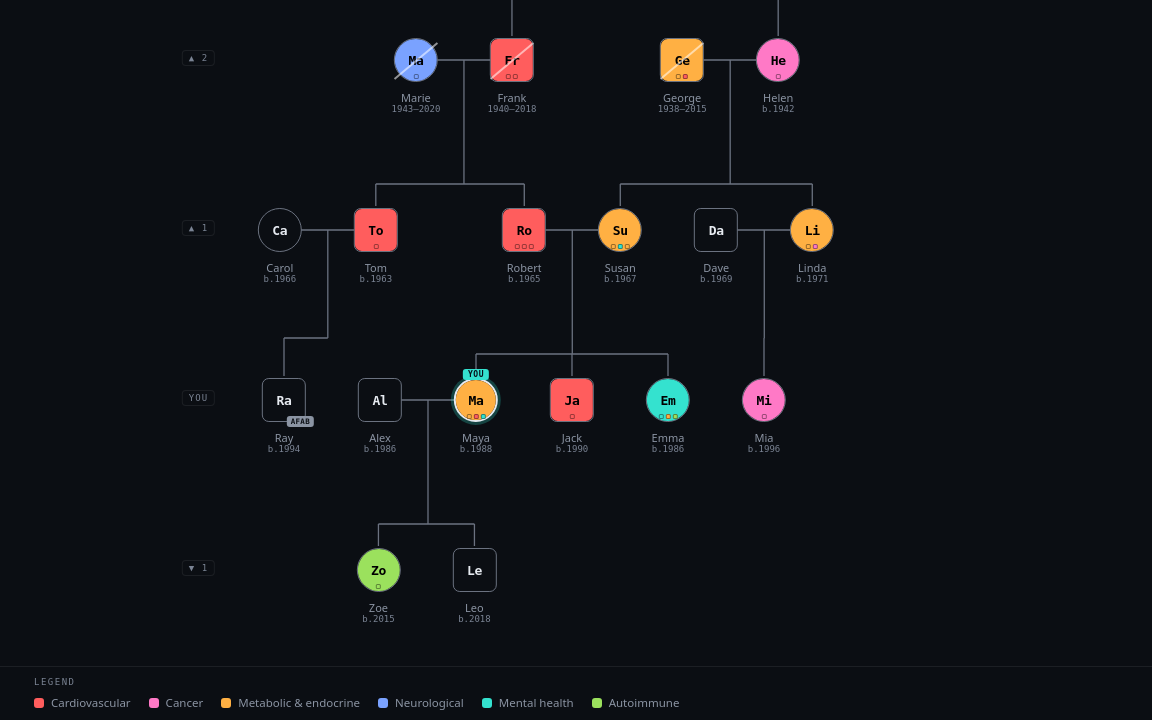
Test: PedigreeView › shows each recorded condition’s inheritance pattern in the drawer (M3)
(page scrolled)
Click the button with aria-label "Maya" at (476, 400), box top-left (454, 378), bottom-right (498, 422)
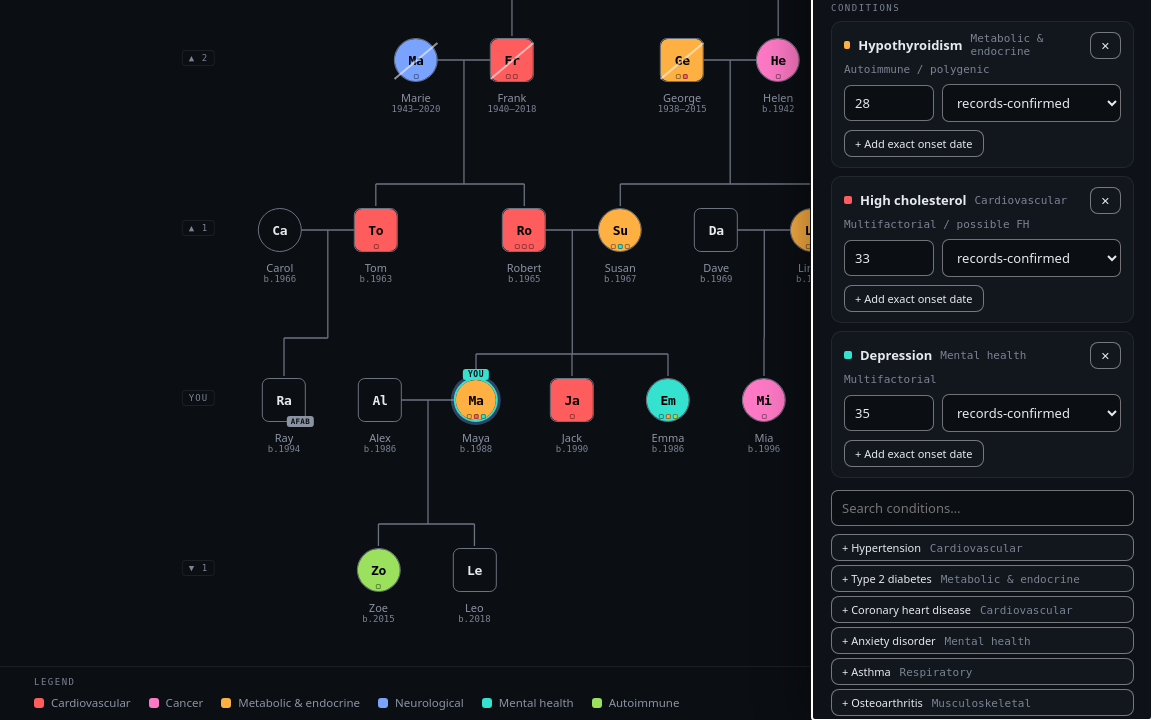
Expected: the text "Autoimmune / polygenic" is shown, top-left (843, 62), bottom-right (990, 88)
